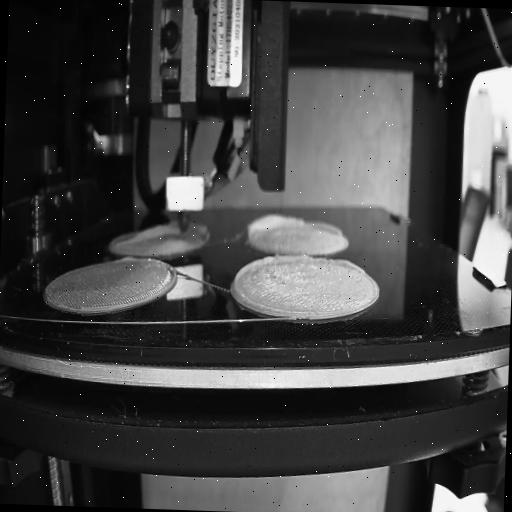over_extrusion: (228, 252, 306, 315), (236, 210, 307, 240), (117, 218, 177, 252), (332, 256, 366, 278), (312, 218, 342, 236), (119, 254, 143, 264)
